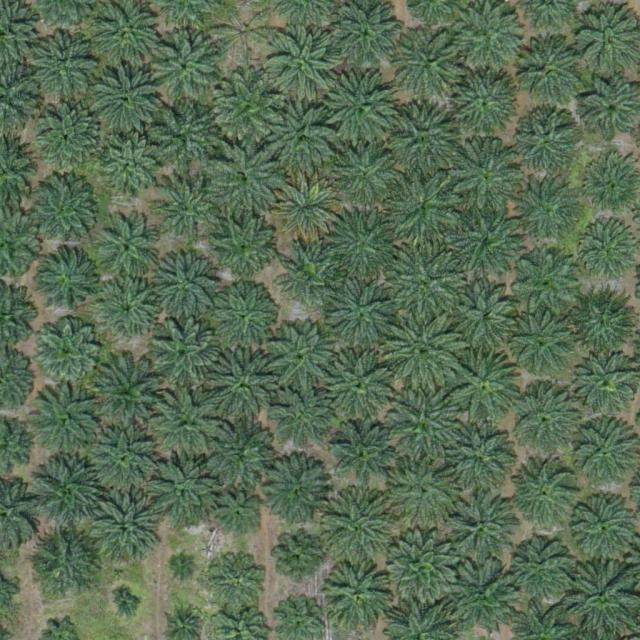Healthy: (93, 356, 171, 435), (384, 171, 462, 250), (388, 246, 466, 325), (384, 310, 462, 388), (89, 423, 160, 494), (505, 307, 576, 378), (386, 106, 457, 177), (152, 34, 223, 105), (212, 72, 283, 143), (269, 321, 340, 392), (570, 415, 640, 486), (509, 384, 579, 455), (445, 419, 516, 489), (444, 492, 514, 563), (449, 557, 519, 628), (386, 529, 456, 600), (320, 559, 391, 629), (209, 351, 279, 422), (200, 414, 270, 485), (146, 452, 216, 523), (88, 491, 158, 562), (33, 389, 103, 460), (513, 39, 583, 110), (454, 70, 524, 141), (395, 28, 465, 99), (568, 286, 638, 357), (509, 246, 579, 317), (449, 141, 519, 212), (453, 207, 523, 278), (324, 72, 395, 142), (332, 140, 402, 211), (147, 102, 218, 172), (210, 146, 280, 217), (207, 212, 278, 282), (152, 174, 222, 245), (150, 319, 220, 390), (28, 177, 98, 248), (32, 317, 102, 388), (452, 353, 522, 423), (389, 387, 459, 457), (387, 455, 457, 525), (322, 490, 392, 560), (260, 459, 330, 529), (153, 388, 223, 458), (34, 455, 104, 525), (28, 527, 98, 597), (452, 282, 522, 352), (326, 209, 396, 279), (326, 278, 396, 348), (325, 348, 395, 418), (92, 63, 162, 133), (267, 103, 337, 173), (267, 27, 337, 97), (575, 352, 638, 415), (39, 104, 102, 167), (155, 253, 218, 316), (517, 459, 579, 522), (511, 536, 573, 599), (331, 426, 393, 489), (514, 110, 577, 172), (577, 222, 640, 284), (518, 179, 580, 242), (37, 33, 99, 96), (100, 138, 162, 201), (214, 287, 276, 350), (98, 221, 160, 284), (99, 279, 161, 341), (39, 250, 101, 312), (282, 247, 337, 303), (274, 393, 329, 448), (209, 553, 264, 608), (212, 492, 259, 539)
Small: (276, 533, 323, 581), (174, 555, 198, 579), (115, 594, 138, 618)
Yellow: (271, 175, 342, 246), (214, 2, 277, 65)
